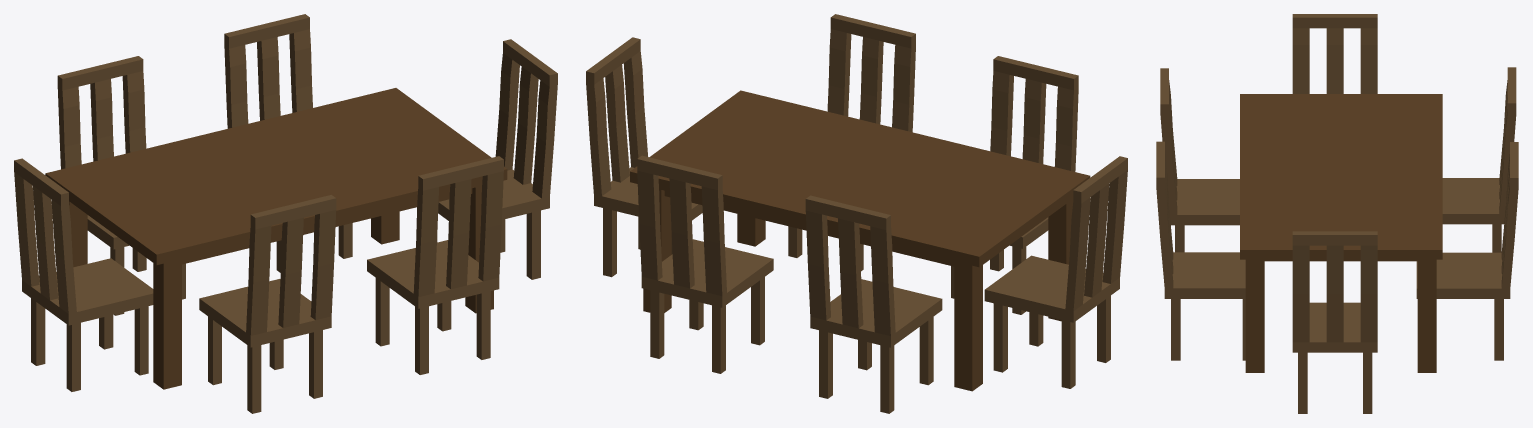
The model's file is table_chairs.fbx.
3 renders of one model, left to right at view 1: azimuth 30°, elevation 25°; view 2: azimuth 150°, elevation 25°; view 3: azimuth 270°, elevation 25°, orthographic. The views are drawn at different scales.
Visible parts, largest first — view 1: Plane, Plane.004, Plane.001, Plane.006, Plane.003, Plane.007, Plane.005; view 2: Plane, Plane.007, Plane.005, Plane.006, Plane.003, Plane.001, Plane.004; view 3: Plane, Plane.003, Plane.004, Plane.005, Plane.001, Plane.006, Plane.007.
Part boxes in pixels (left/top/right/bottom): Plane: left=45, top=88, right=507, bottom=389; Plane.004: left=367, top=156, right=503, bottom=374; Plane.001: left=199, top=195, right=336, bottom=413; Plane.006: left=14, top=158, right=153, bottom=391; Plane.003: left=437, top=39, right=557, bottom=279; Plane.007: left=57, top=56, right=185, bottom=315; Plane.005: left=224, top=14, right=352, bottom=272; Plane: left=630, top=90, right=1090, bottom=391; Plane.007: left=805, top=195, right=942, bottom=413; Plane.005: left=637, top=155, right=773, bottom=373; Plane.006: left=984, top=156, right=1127, bottom=388; Plane.003: left=586, top=37, right=702, bottom=277; Plane.001: left=951, top=56, right=1078, bottom=314; Plane.004: left=788, top=14, right=915, bottom=271; Plane: left=1240, top=94, right=1442, bottom=372; Plane.003: left=1292, top=231, right=1377, bottom=413; Plane.004: left=1156, top=141, right=1245, bottom=360; Plane.005: left=1416, top=142, right=1518, bottom=360; Plane.001: left=1160, top=68, right=1239, bottom=252; Plane.006: left=1292, top=14, right=1377, bottom=93; Plane.007: left=1442, top=67, right=1516, bottom=252.
Size of the model in its own units: 1080 by 422 by 748.
